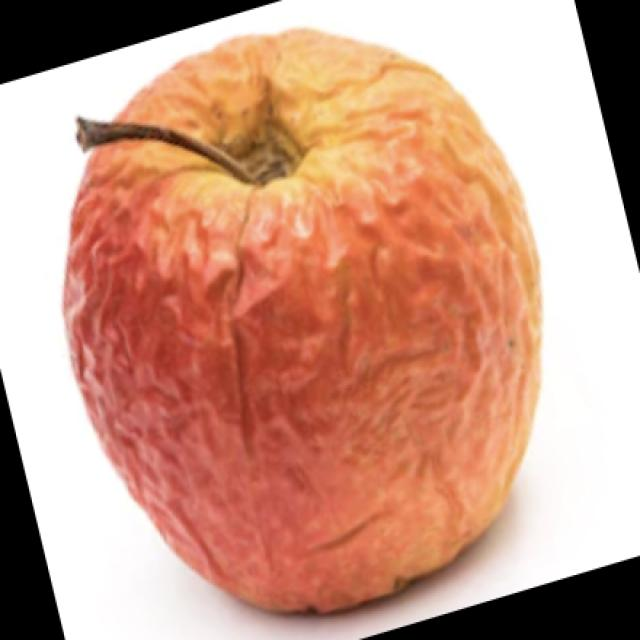organik: (70, 28, 540, 623)
